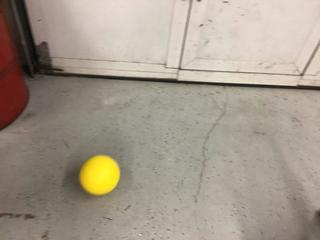power_cell: (78, 152, 123, 196)
